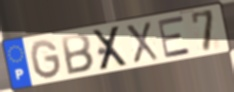7: (189, 9, 217, 54)
B: (60, 32, 96, 77)
E: (156, 14, 193, 60)
G: (28, 39, 64, 81)
X: (91, 24, 130, 73), (123, 20, 161, 65)
